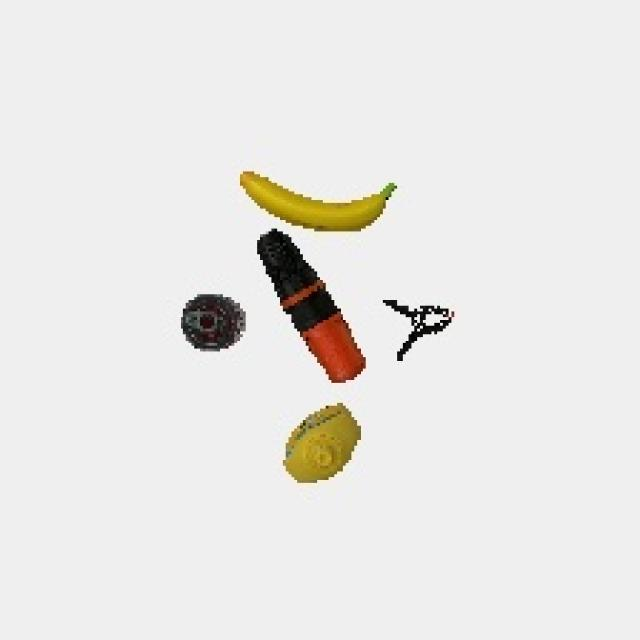Banana: (235, 161, 408, 230)
MediumClamp: (380, 286, 465, 366)
MustardBottle: (276, 397, 371, 494)
TomatoSoupCan: (170, 288, 252, 357)
